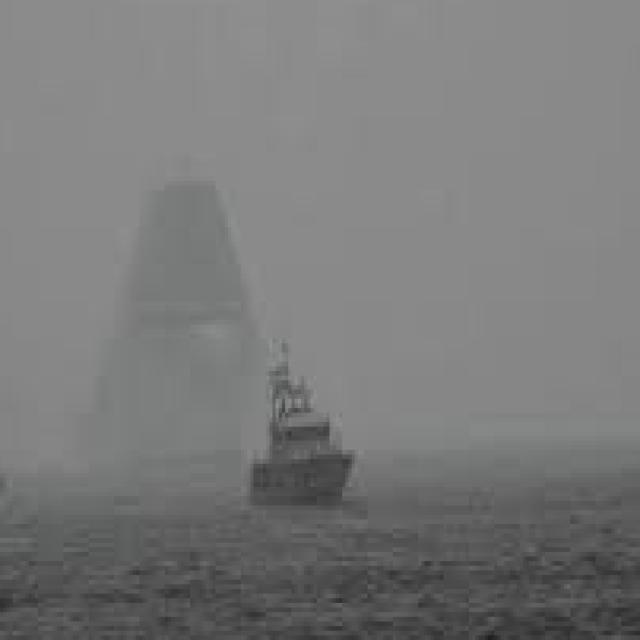houseboat: (242, 338, 366, 505)
